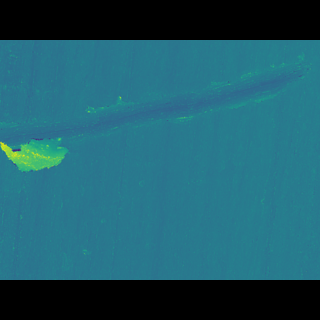Loch: (0, 82, 317, 172), (0, 140, 76, 171)
